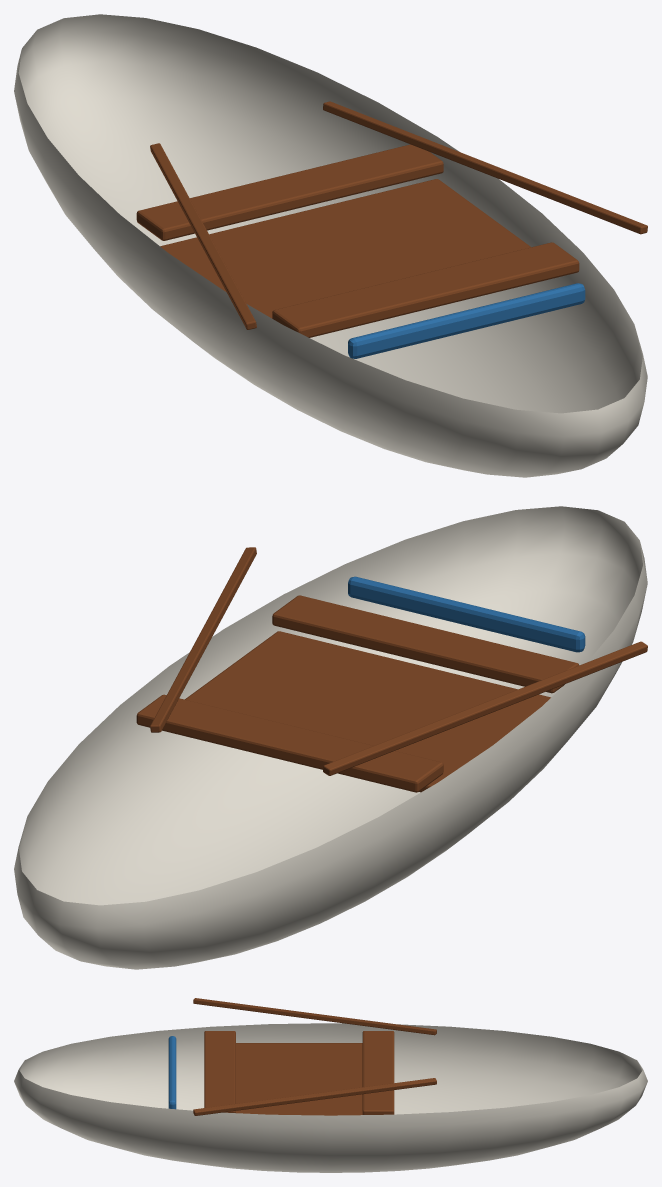
File: barca.glb
3 views of the same model, one above another, from view 1: azimuth 30°, elevation 25°; view 2: azimuth 150°, elevation 25°; view 3: azimuth 270°, elevation 25° (orthographic). The views are drawn at different scales.
Parts seen in each view (by area): view 1: Sphere, Cube.001, Cube.003, Cube.002, Cube, Cube.005, Cube.004; view 2: Sphere, Cube.001, Cube.003, Cube.002, Cube, Cube.004, Cube.005; view 3: Sphere, Cube.001, Cube.002, Cube.003, Cube.005, Cube.004, Cube.
Part boxes in pixels (x1,y1,x2,y2): Sphere: [14, 14, 647, 477]; Cube.001: [160, 179, 530, 318]; Cube.003: [272, 242, 579, 337]; Cube.002: [136, 144, 443, 240]; Cube: [348, 283, 585, 358]; Cube.005: [323, 101, 647, 234]; Cube.004: [150, 143, 256, 329]; Sphere: [14, 506, 647, 969]; Cube.001: [185, 631, 550, 792]; Cube.003: [272, 595, 579, 693]; Cube.002: [136, 694, 443, 792]; Cube: [348, 576, 585, 652]; Cube.004: [323, 641, 647, 775]; Cube.005: [150, 547, 256, 732]; Sphere: [14, 1023, 647, 1172]; Cube.001: [236, 1043, 362, 1115]; Cube.002: [362, 1031, 394, 1114]; Cube.003: [204, 1031, 235, 1112]; Cube.005: [193, 1078, 436, 1115]; Cube.004: [193, 998, 436, 1035]; Cube: [168, 1036, 176, 1109].
Bounding box in the file's own units: 1.71 × 0.7371 × 4.
